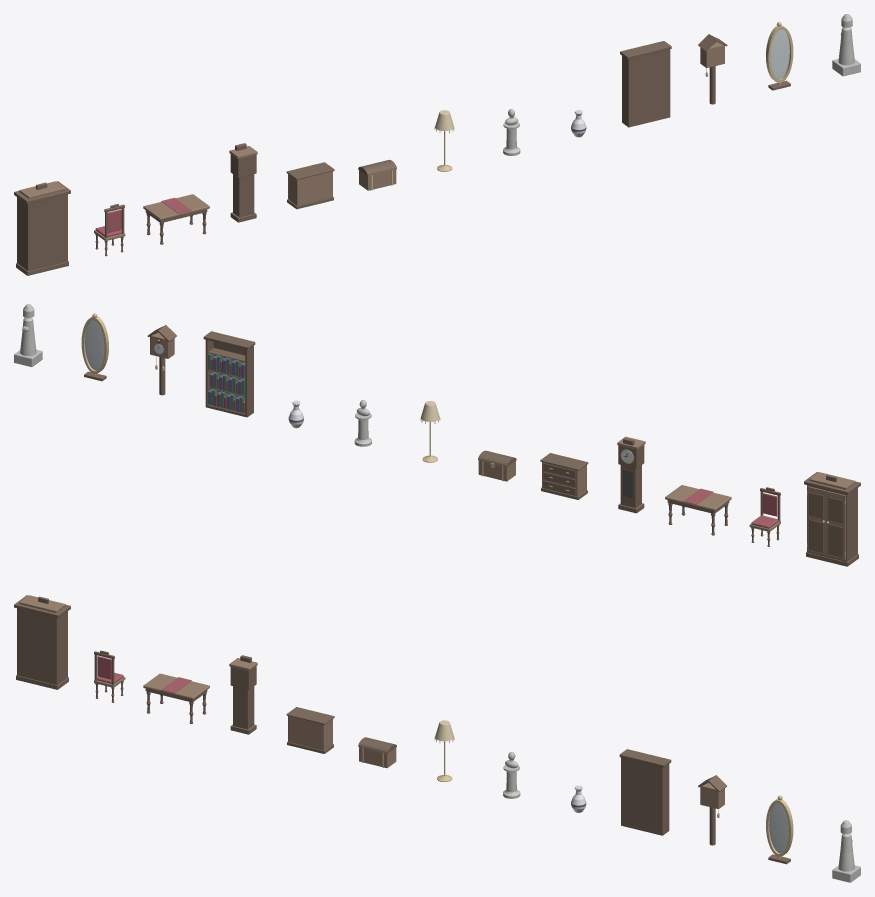
The model's file is MimicProps.glb.
3 renders of one model, top to bottom at view 1: azimuth 30°, elevation 25°; view 2: azimuth 150°, elevation 25°; view 3: azimuth 330°, elevation 25°, orthographic.
Visible parts, largest first — view 1: Wardrobe_DarkWood, Bookshelf_DarkWood, GrandfatherClock_DarkWood, Dresser_Wood, BloodyStatue_Stone, Table_Wood, CursedMirror_Mirror, Dresser_DarkWood, CursedMirror_Brass, Bust_Stone, Chest_Wood, CuckooClock_Wood; view 2: Wardrobe_DarkWood, Bookshelf_DarkWood, Wardrobe_Wood, Dresser_DarkWood, GrandfatherClock_DarkWood, BloodyStatue_Stone, Bookshelf_BookGreen, Bookshelf_BookBlue, Table_Wood, CursedMirror_Mirror, CursedMirror_Brass, Bust_Stone (+3 smaller); view 3: Wardrobe_DarkWood, Bookshelf_DarkWood, GrandfatherClock_DarkWood, Dresser_Wood, BloodyStatue_Stone, Table_Wood, CursedMirror_Mirror, Dresser_DarkWood, CursedMirror_Brass, Chest_Wood, Bust_Stone.
Boxes of the visible parts, x1,y1,x2,y2 form: Wardrobe_DarkWood: (14,181,70,275); Bookshelf_DarkWood: (620,41,671,127); GrandfatherClock_DarkWood: (230,143,256,222); Dresser_Wood: (288,171,332,205); BloodyStatue_Stone: (832,14,860,76); Table_Wood: (143,194,209,220); CursedMirror_Mirror: (770,29,789,79); Dresser_DarkWood: (286,162,334,209); CursedMirror_Brass: (766,22,793,84); Bust_Stone: (503,109,520,155); Chest_Wood: (359,169,396,190); CuckooClock_Wood: (700,41,724,67); Wardrobe_DarkWood: (804,472,860,566); Bookshelf_DarkWood: (203,331,255,417); Wardrobe_Wood: (807,472,855,560); Dresser_DarkWood: (540,453,588,499); GrandfatherClock_DarkWood: (618,438,644,513); BloodyStatue_Stone: (14,304,42,366); Bookshelf_BookGreen: (208,353,245,412); Bookshelf_BookBlue: (208,355,245,411); Table_Wood: (665,485,731,511); CursedMirror_Mirror: (85,320,104,370); CursedMirror_Brass: (81,313,108,375); Bust_Stone: (354,400,371,446); Wardrobe_DarkWood: (14,595,70,689); Bookshelf_DarkWood: (619,749,671,835); GrandfatherClock_DarkWood: (230,655,256,734); Dresser_Wood: (288,716,332,750); BloodyStatue_Stone: (832,820,860,882); Table_Wood: (143,673,209,699); CursedMirror_Mirror: (769,803,788,853); Dresser_DarkWood: (286,707,334,753); CursedMirror_Brass: (766,795,793,858); Chest_Wood: (359,747,396,767); Bust_Stone: (503,752,520,798).
Size of the model in its own units: 99.75 by 9.35 by 3.6.
